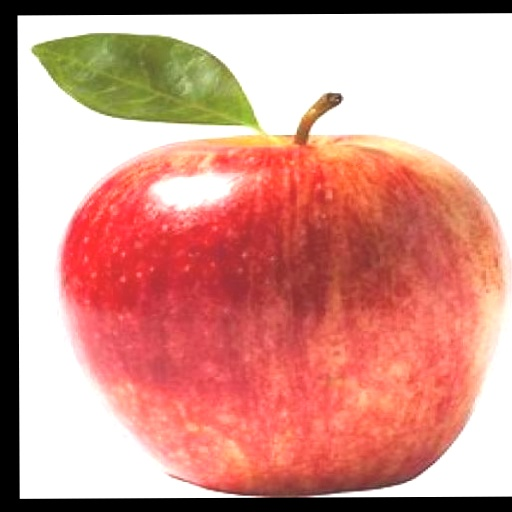fruit: (55, 95, 510, 495)
